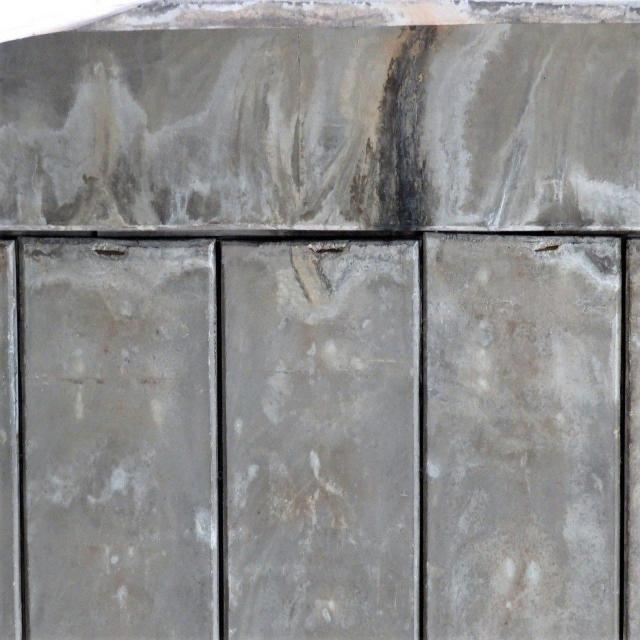Rebar: (307, 241, 351, 259), (90, 244, 130, 262), (529, 237, 561, 258)
